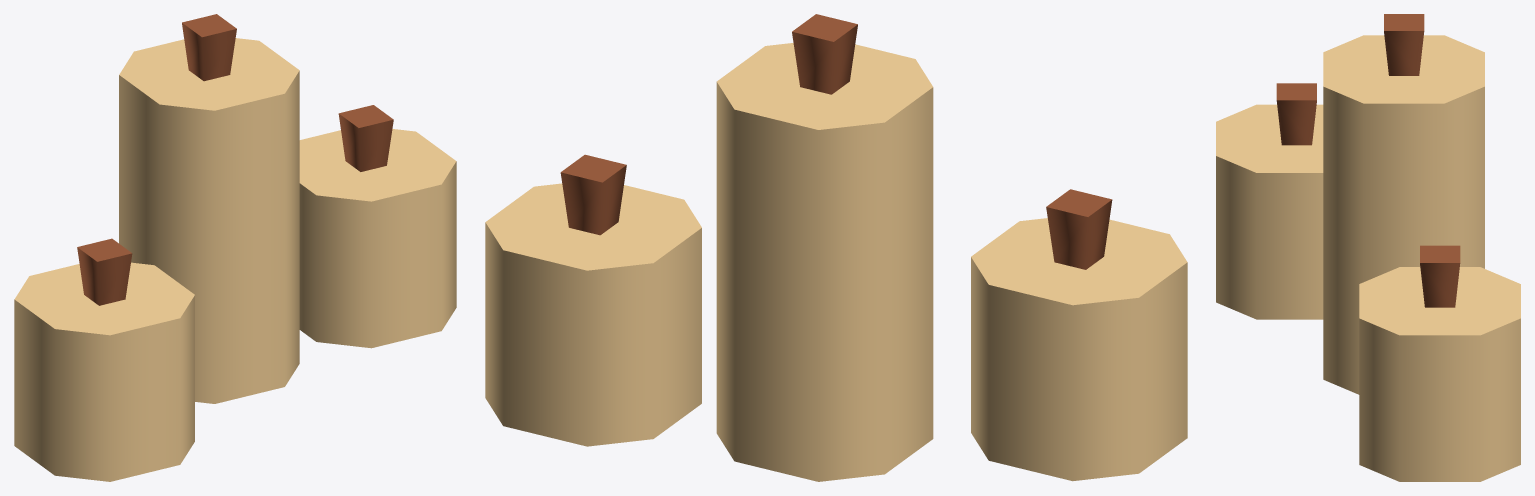
The model's file is candleMultiple.fbx.
The picture shows the model from 3 angles, left to right: view 1: azimuth 30°, elevation 25°; view 2: azimuth 150°, elevation 25°; view 3: azimuth 270°, elevation 25°; orthographic projection. The views are drawn at different scales.
Parts seen in each view (by area): view 1: candleMultiple; view 2: candleMultiple; view 3: candleMultiple.
Boxes of the visible parts, box(x1,y1,x2,y2) form: candleMultiple: box(14, 14, 456, 481); candleMultiple: box(485, 14, 1187, 481); candleMultiple: box(1216, 14, 1520, 481).
Size of the model in its own units: 1.69 by 1.16 by 0.9427.
